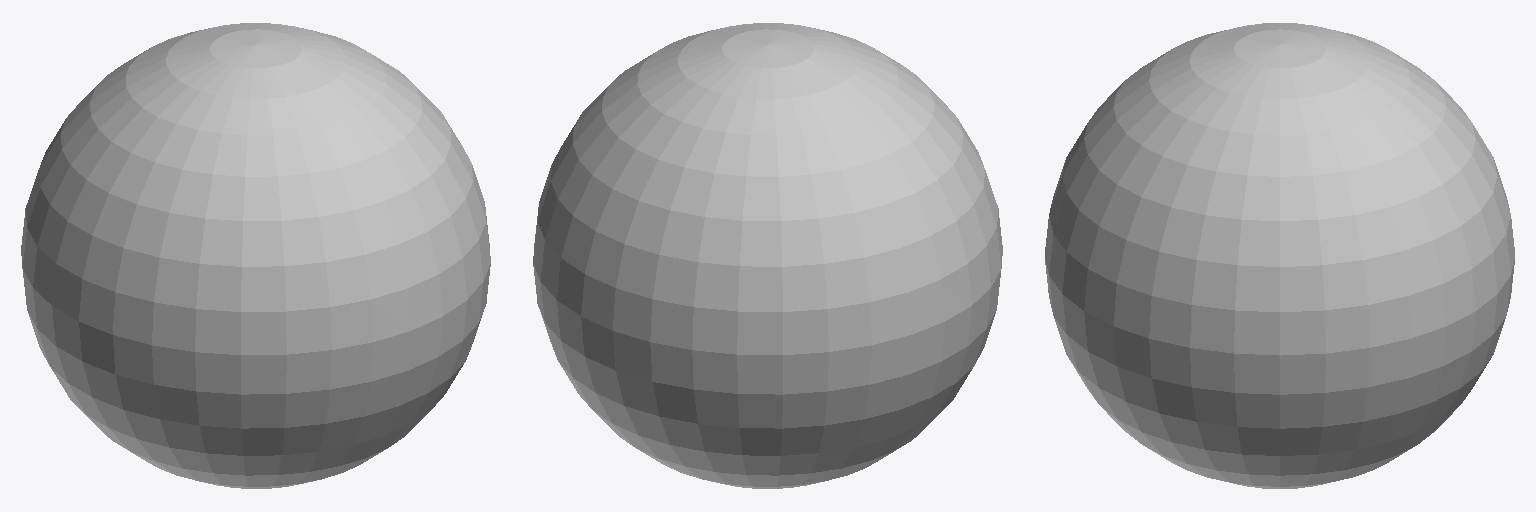
The model's file is Marble2.obj.
The picture shows the model from 3 angles: view 1: azimuth 30°, elevation 25°; view 2: azimuth 150°, elevation 25°; view 3: azimuth 270°, elevation 25°; orthographic projection.
Visible parts, largest first — view 1: Marble2; view 2: Marble2; view 3: Marble2.
Boxes of the visible parts, x1=… form: Marble2: x1=21, y1=23, x2=490, y2=488; Marble2: x1=533, y1=23, x2=1002, y2=488; Marble2: x1=1045, y1=23, x2=1514, y2=488.
Size of the model in its own units: 0.0167 by 0.0165 by 0.0167.